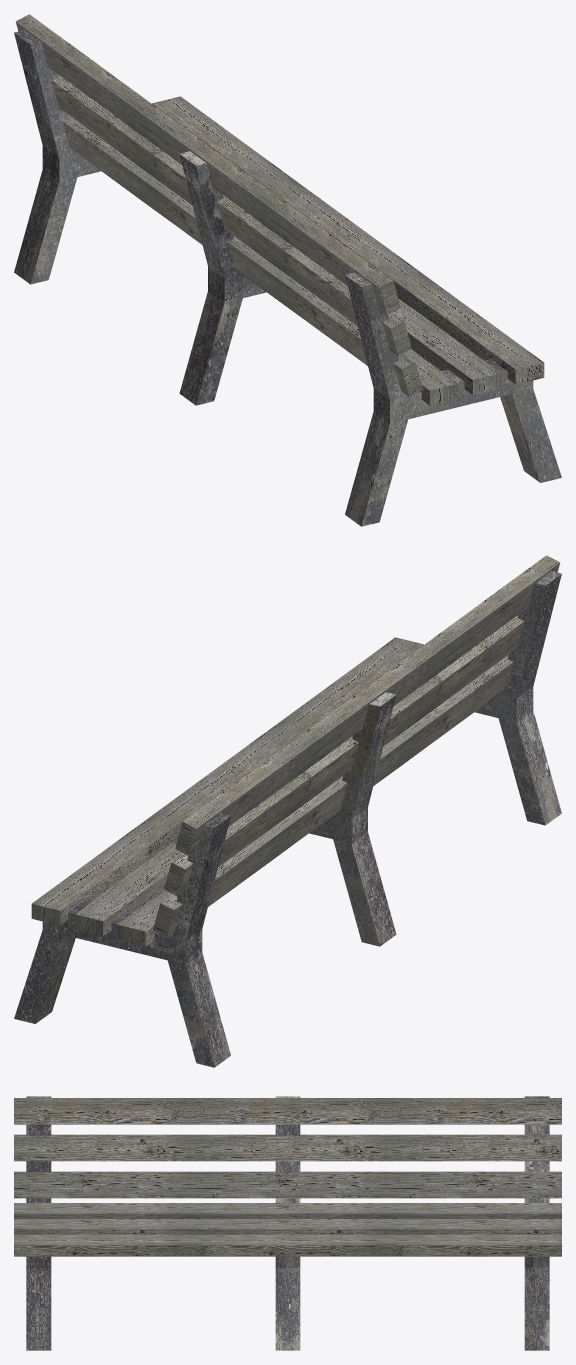
Rendered from Bench.glb.
The picture shows the model from 3 angles, top to bottom: view 1: azimuth 30°, elevation 25°; view 2: azimuth 150°, elevation 25°; view 3: azimuth 270°, elevation 25°; orthographic projection. The views are drawn at different scales.
Parts seen in each view (by area): view 1: Boards, Stands; view 2: Boards, Stands; view 3: Boards, Stands.
Part boxes in pixels (box(x1,y1,x2,y2)): Boards: box(15, 14, 544, 405); Stands: box(14, 30, 561, 526); Boards: box(31, 555, 560, 946); Stands: box(14, 571, 561, 1067); Boards: box(14, 1098, 561, 1256); Stands: box(26, 1096, 549, 1350).
Size of the model in its own units: 0.7 by 0.8218 by 2.2.
2 materials, 2 textured.
